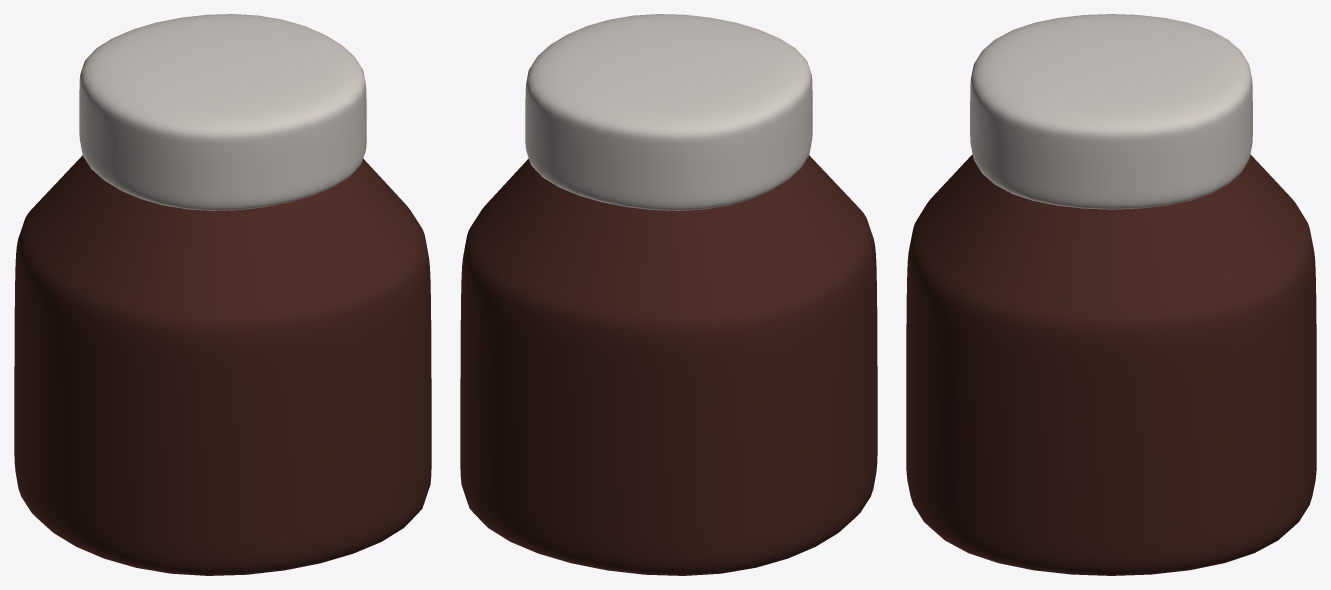
Rendered from Buffout.fbx.
3 views of the same model, side by side, from view 1: azimuth 30°, elevation 25°; view 2: azimuth 150°, elevation 25°; view 3: azimuth 270°, elevation 25° (orthographic).
Visible parts, largest first — view 1: Cube.001; view 2: Cube.001; view 3: Cube.001.
Part boxes in pixels (x1,y1,x2,y2): Cube.001: (14, 14, 431, 575); Cube.001: (460, 14, 877, 575); Cube.001: (906, 14, 1316, 575).
Bounding box in the file's own units: 26.68 × 31.42 × 26.68.
